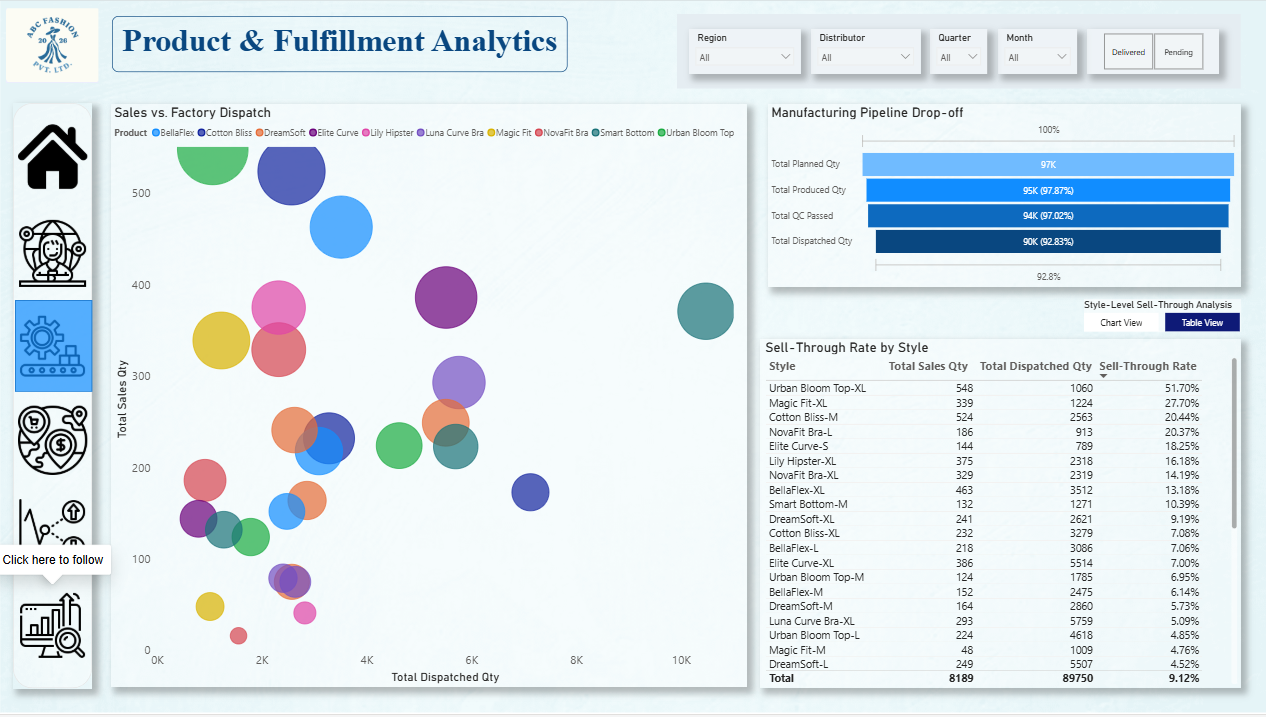

The page's visual inventory and layout, read from the dashboard file:
{"tool":"powerbi","page":{"name":"Product & Fulfillment Analytics","canvas":[1920,1080],"ordinal":2},"visuals":[{"type":"textbox","box":[169.2,22.2,690.4,85.4],"z":0},{"type":"image","box":[9.2,0,140.2,134.6],"z":1000},{"type":"scatterChart","title":"Sales vs. Factory Dispatch","fields":{"Category":["Dim_Style.Style"],"X":["Measures_Table.Total Dispatched Qty"],"Y":["Measures_Table.Total Sales Qty"],"Series":["Dim_Style.Product"],"Size":["Measures_Table.Total Net Sales"]},"box":[168.4,156.1,963.1,883],"z":2000},{"type":"funnel","title":"Manufacturing Pipeline Drop-off","fields":{"Y":["Measures_Table.Total Planned Qty","Measures_Table.Total Produced Qty","Measures_Table.Total QC Passed","Measures_Table.Total Dispatched Qty"]},"box":[1163.7,155.5,716,276.8],"z":3000},{"type":"tableEx","title":"Sell-Through Rate by Style","fields":{"Values":["Dim_Style.Style","Measures_Table.Total Sales Qty","Measures_Table.Total Dispatched Qty","Measures_Table.Sell-Through Rate"]},"box":[1151.8,512.7,728,528],"z":4000},{"type":"image","box":[27,328.9,104.7,106.8],"z":5000,"group":"g1"},{"type":"image","box":[27,177.2,104.7,117.3],"z":6000,"group":"g1"},{"type":"bookmarkNavigator","title":"Style-Level Sell-Through Analysis","box":[1642.2,451.1,237.5,49.6],"z":7000},{"type":"image","box":[27,889.6,104.7,113.1],"z":7000,"group":"g1"},{"type":"shape","box":[19.9,154.4,119.5,886.5],"z":8000},{"type":"group","id":"g1","title":"Navigation img","box":[22.8,177.2,113.1,825.5],"z":9000},{"type":"shape","box":[22.4,453.2,117,139.5],"z":10000},{"type":"shape","box":[1025.3,20.1,854.4,112.8],"z":10500},{"type":"slicer","fields":{"Values":["Dim_Date.MonthName"]},"box":[1512.4,42.3,119.6,68.4],"z":11000,"group":"g2"},{"type":"slicer","fields":{"Values":["Dim_Region.Region"]},"box":[1044.2,42.3,169.2,68.4],"z":13000,"group":"g2"},{"type":"slicer","fields":{"Values":["Dim_Distributor.Distributor"]},"box":[1228.8,42.3,165.8,68.4],"z":14000,"group":"g2"},{"type":"slicer","fields":{"Values":["Dim_Date.Quarter"]},"box":[1409.9,42.3,87.2,68.4],"z":15000,"group":"g2"},{"type":"slicer","fields":{"Values":["Fact_Sales.Order Status"]},"box":[1647.4,42.3,199.9,68.4],"z":16000,"group":"g2"},{"type":"group","id":"g2","title":"Group 1","box":[1044.2,42.3,803.2,68.4],"z":16001},{"type":"image","box":[27,470.1,104.7,106.8],"z":19000,"group":"g1"},{"type":"image","box":[27,611.3,104.7,106.8],"z":20000,"group":"g1"},{"type":"image","box":[22.8,752.6,113.1,102.6],"z":21000,"group":"g1"}]}

Visuals, with their boxes in screenshot pixels (x1, y1, x2, y2), scaled from the page's 1920x1080 canvas onto the 1266x717 screenshot:
textbox: (left=112, top=15, right=567, bottom=71)
image: (left=6, top=0, right=99, bottom=89)
"Sales vs. Factory Dispatch" scatterChart: (left=111, top=104, right=746, bottom=690)
"Manufacturing Pipeline Drop-off" funnel: (left=767, top=103, right=1239, bottom=287)
"Sell-Through Rate by Style" tableEx: (left=759, top=340, right=1239, bottom=691)
image: (left=18, top=218, right=87, bottom=289)
image: (left=18, top=118, right=87, bottom=196)
"Style-Level Sell-Through Analysis" bookmarkNavigator: (left=1083, top=299, right=1239, bottom=332)
image: (left=18, top=591, right=87, bottom=666)
shape: (left=13, top=103, right=92, bottom=691)
"Navigation img" group: (left=15, top=118, right=90, bottom=666)
shape: (left=15, top=301, right=92, bottom=393)
shape: (left=676, top=13, right=1239, bottom=88)
slicer - Dim_Date.MonthName: (left=997, top=28, right=1076, bottom=73)
slicer - Dim_Region.Region: (left=689, top=28, right=800, bottom=73)
slicer - Dim_Distributor.Distributor: (left=810, top=28, right=920, bottom=73)
slicer - Dim_Date.Quarter: (left=930, top=28, right=987, bottom=73)
slicer - Fact_Sales.Order Status: (left=1086, top=28, right=1218, bottom=73)
"Group 1" group: (left=689, top=28, right=1218, bottom=73)
image: (left=18, top=312, right=87, bottom=383)
image: (left=18, top=406, right=87, bottom=477)
image: (left=15, top=500, right=90, bottom=568)
